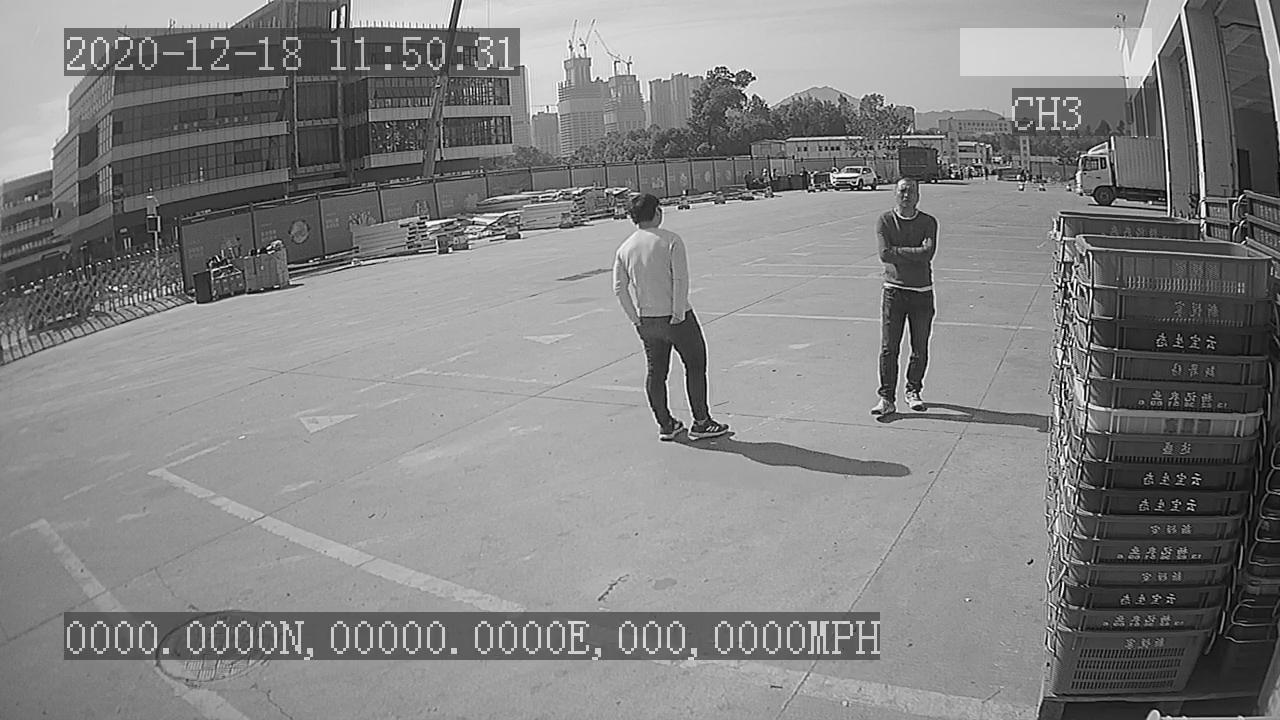person: (608, 188, 734, 444), (867, 170, 943, 420)
